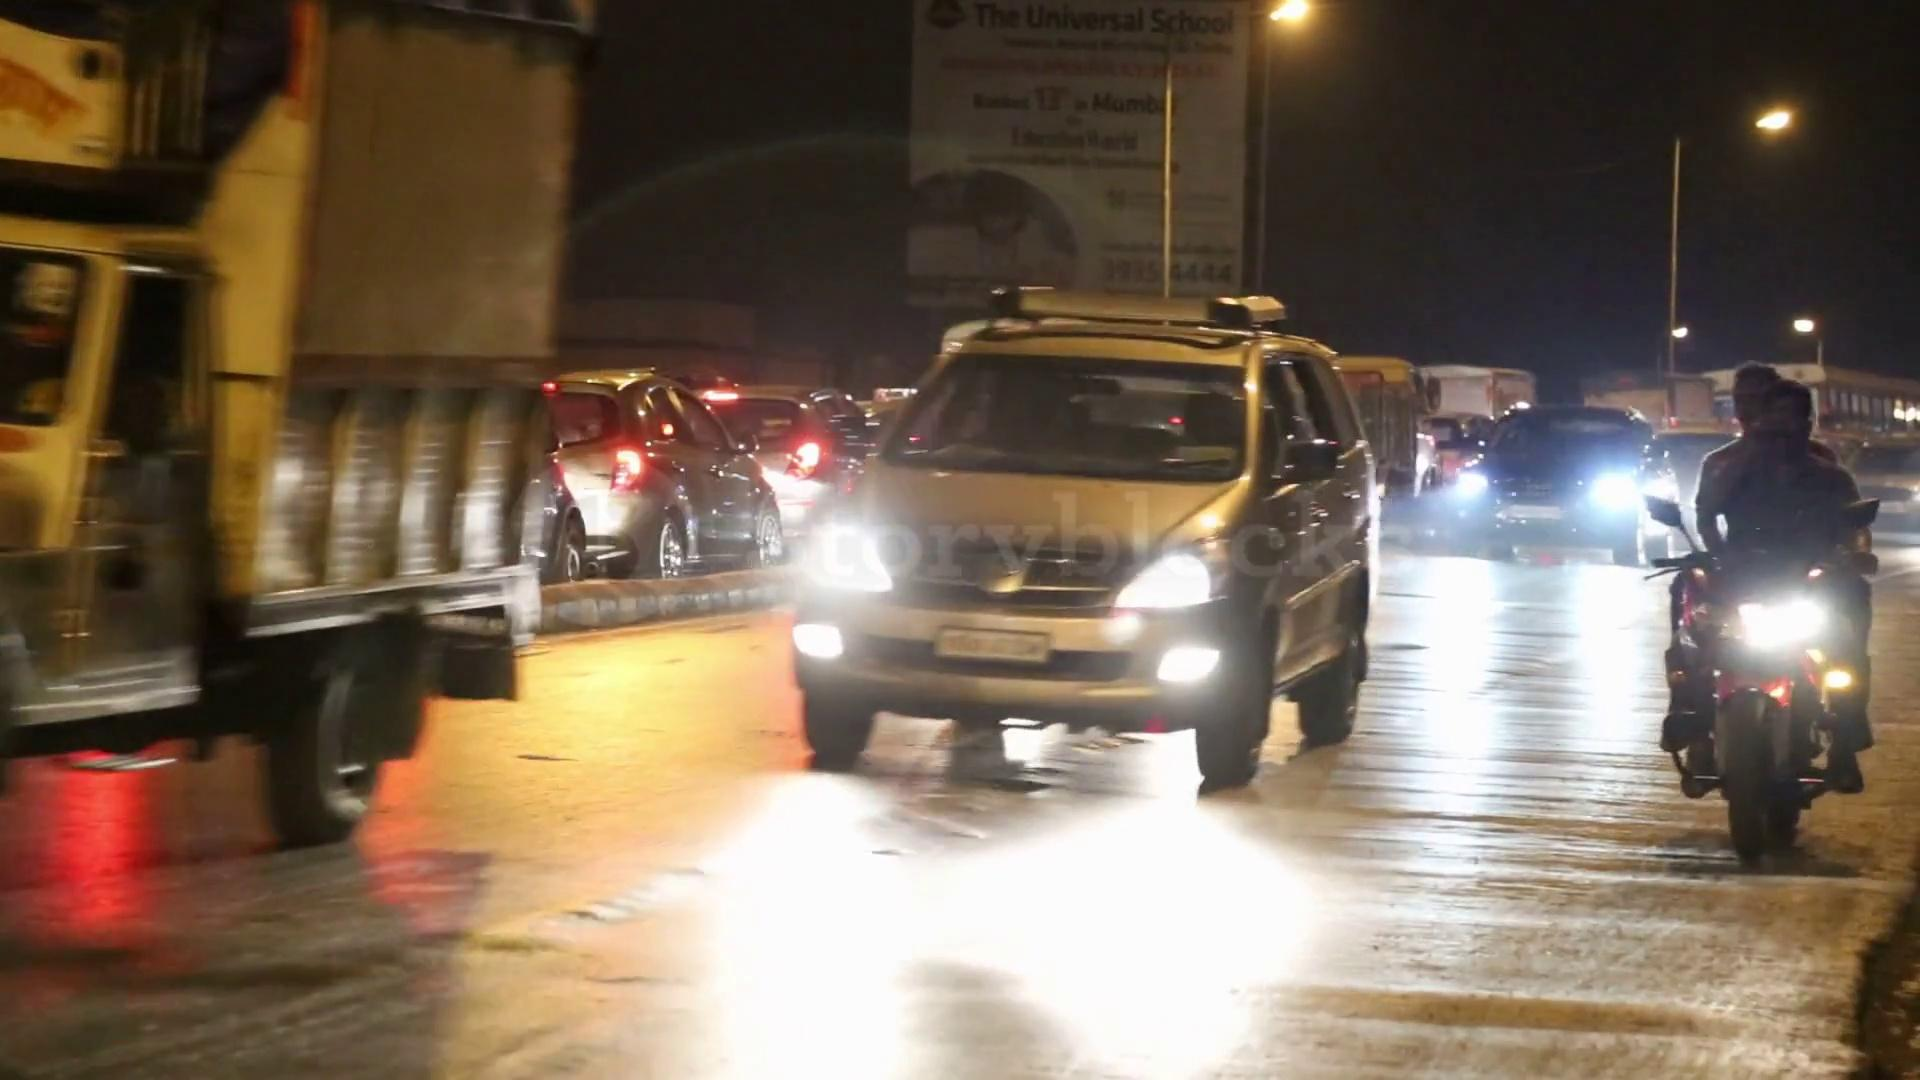rider: (1669, 366, 1878, 795)
without_helmate: (1741, 381, 1823, 463)
